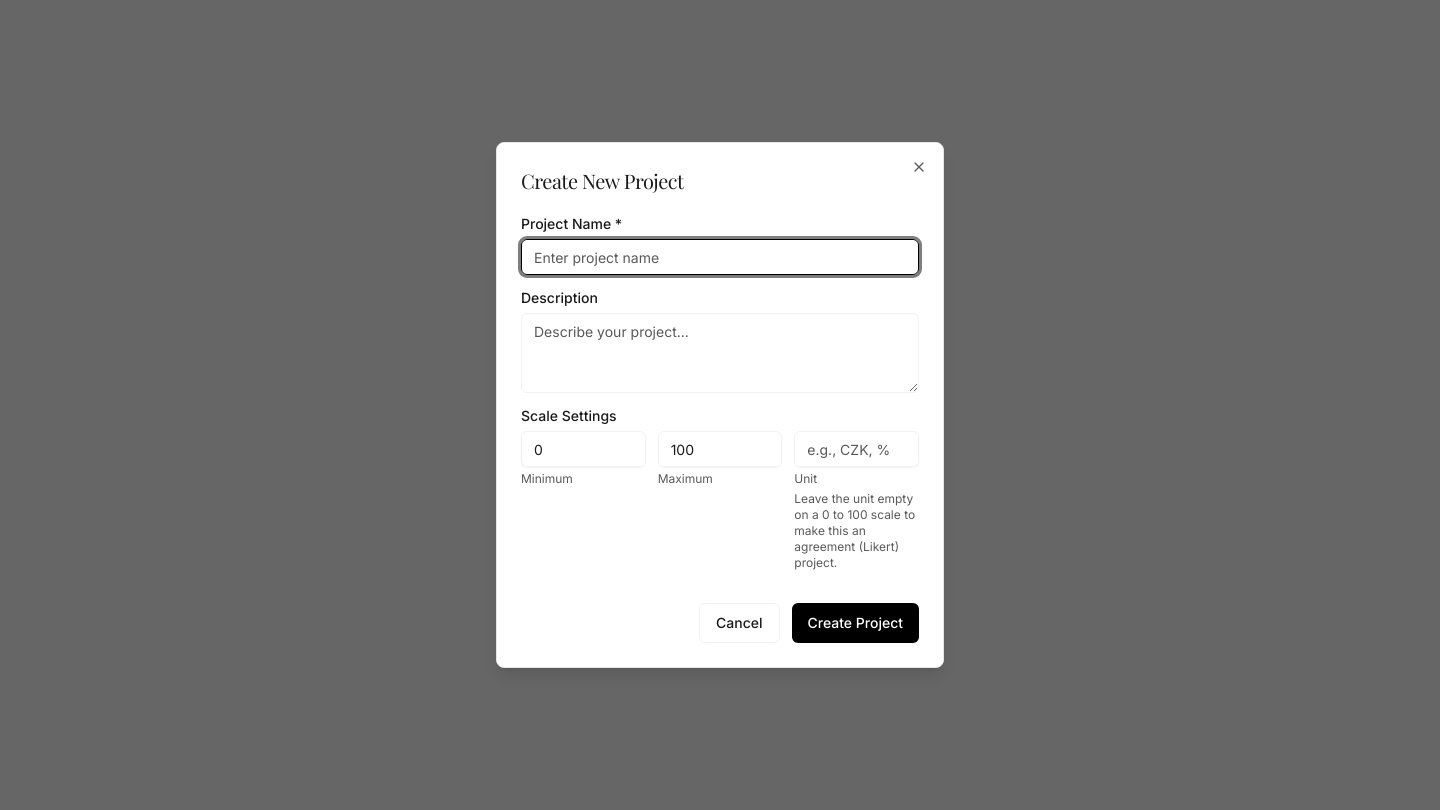
Scenario: CreateProjectModal › shows validation error when name is empty
The image size is (1440, 810).
What coordinates should you click on to do the following:
click the button "Create Project"
I would click on:
 (855, 623)
Its box is [792,603,919,643].
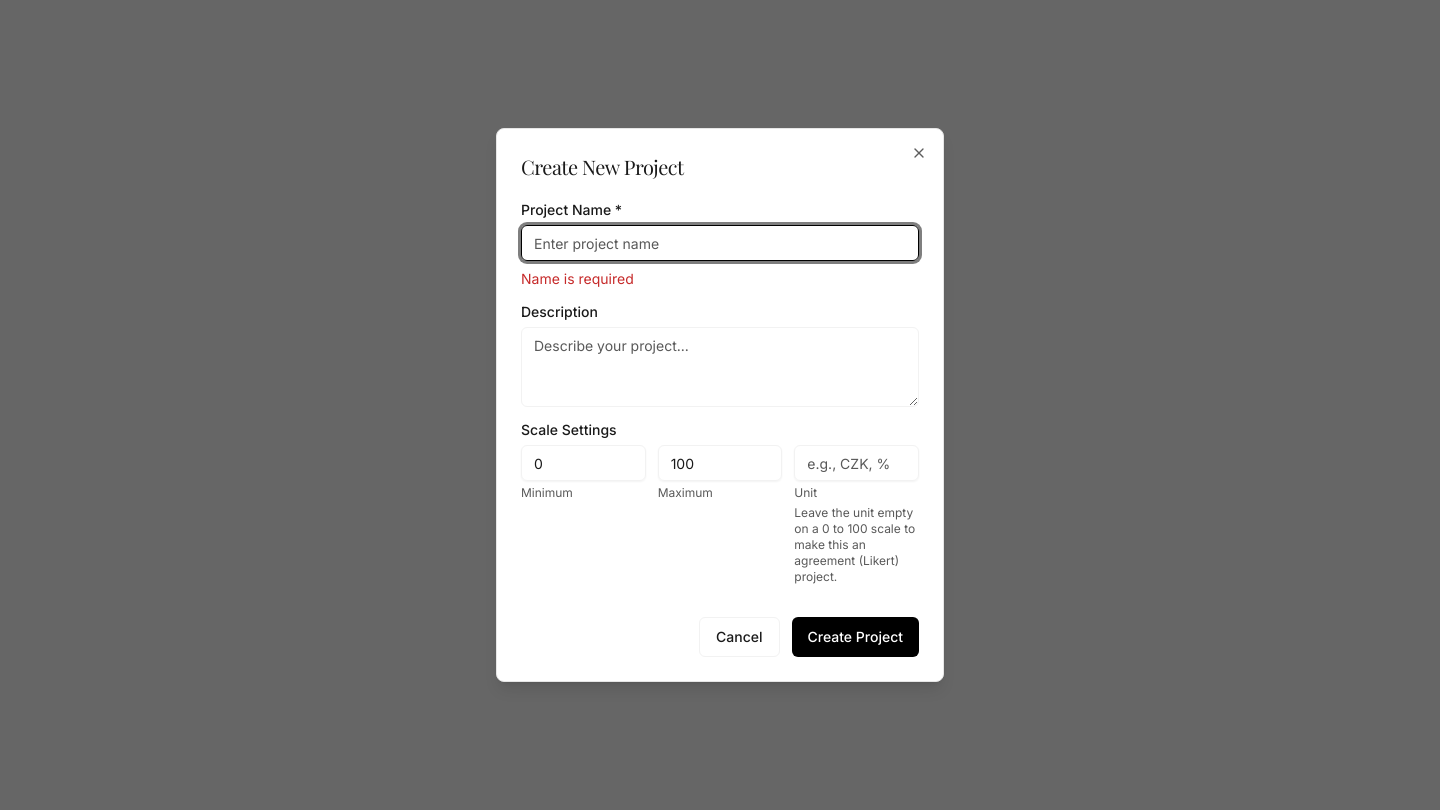
Expected: the text "Name is required" is shown, [521,270,634,287]
